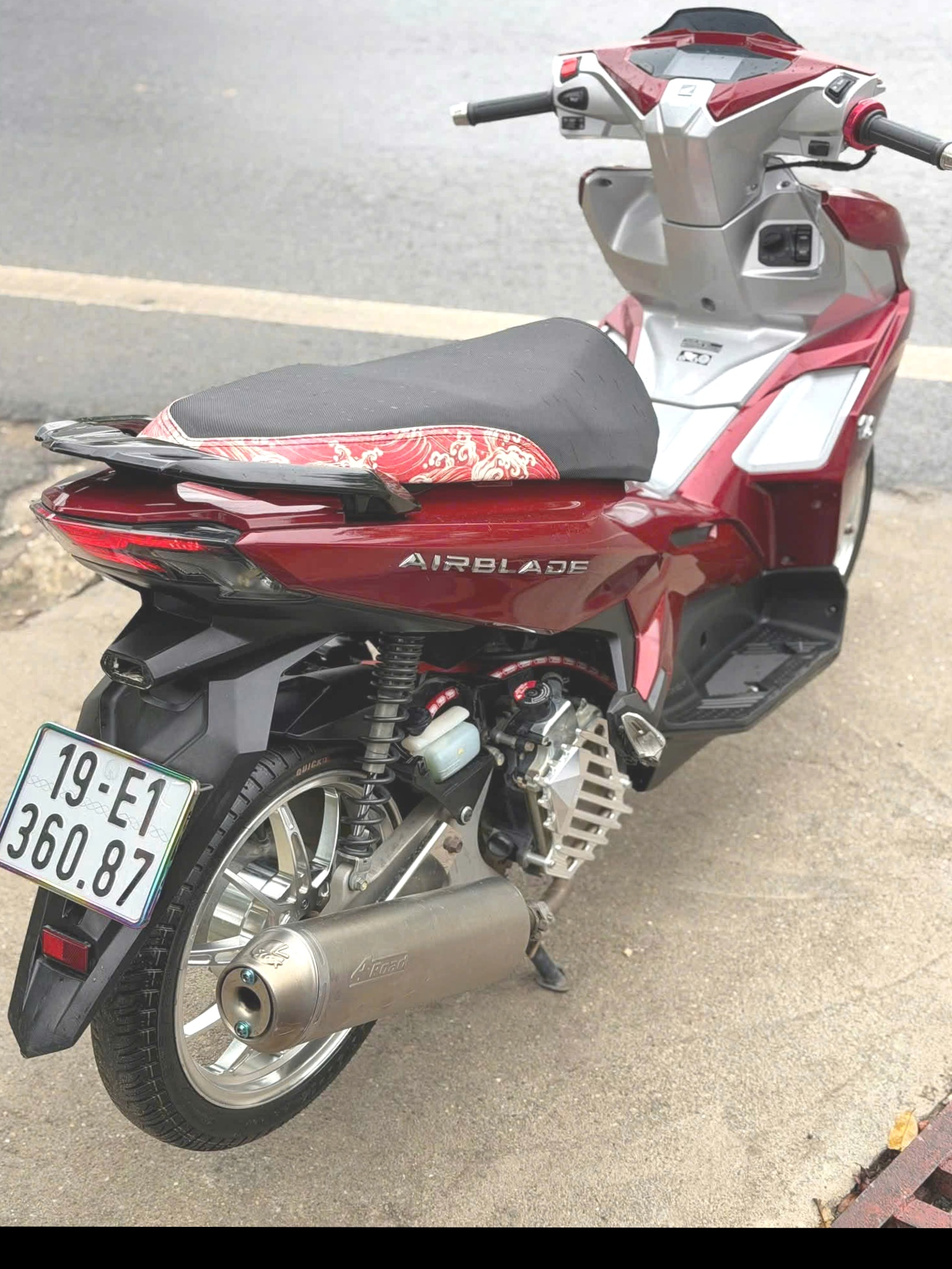Bien-so: (0, 717, 197, 924)
